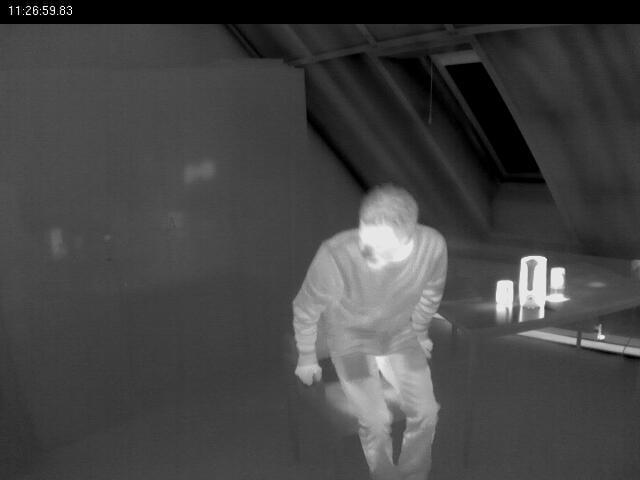person: (290, 183, 455, 479)
